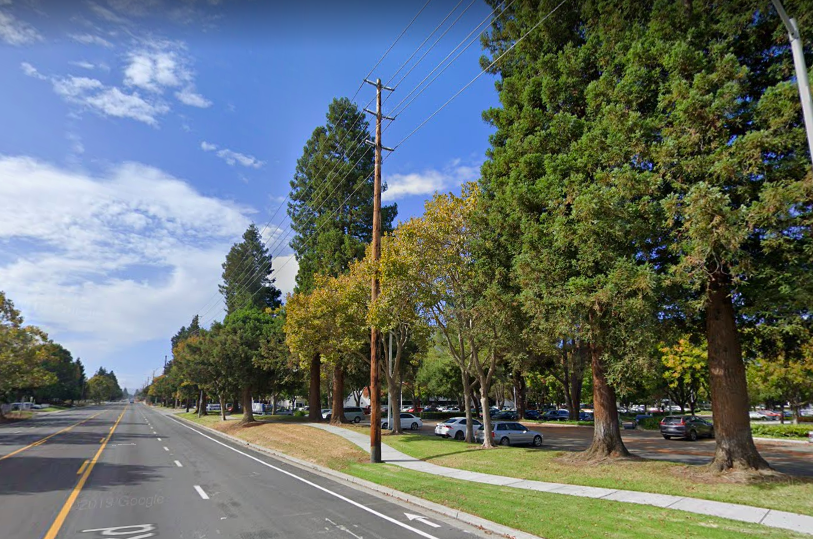utility_pole: (355, 69, 401, 166)
